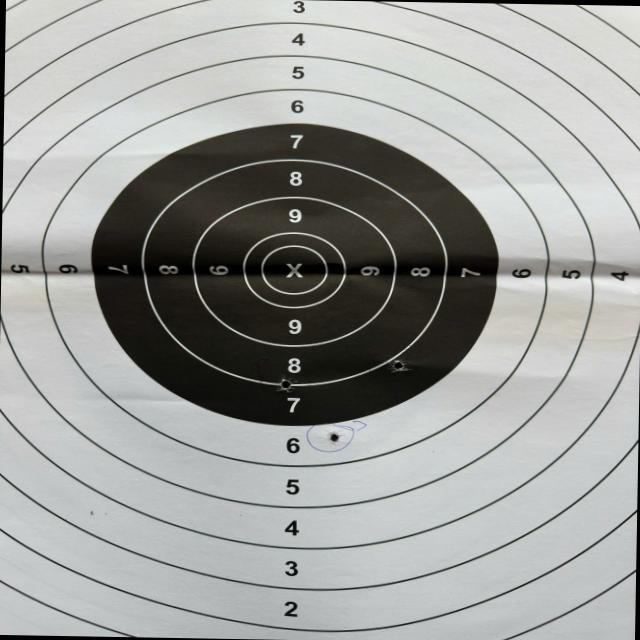bullet: (278, 378, 291, 391), (391, 360, 405, 370), (329, 433, 338, 441)
target: (0, 0, 640, 640)
